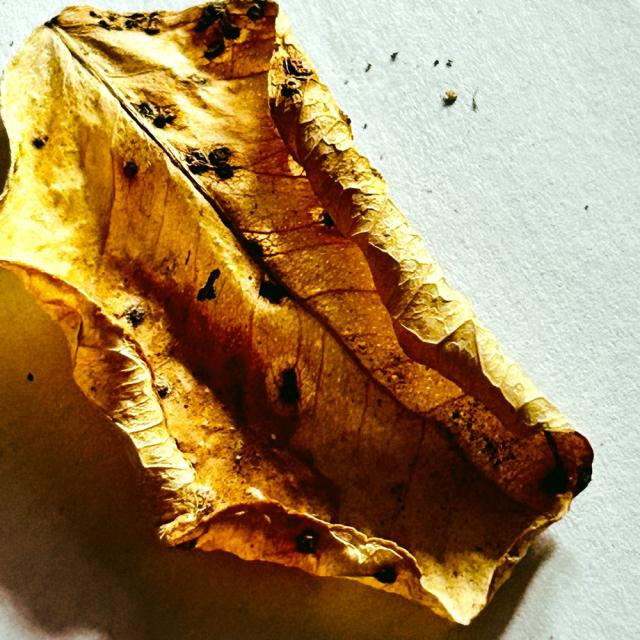DryLeaf_Lemon: (0, 0, 593, 624)
